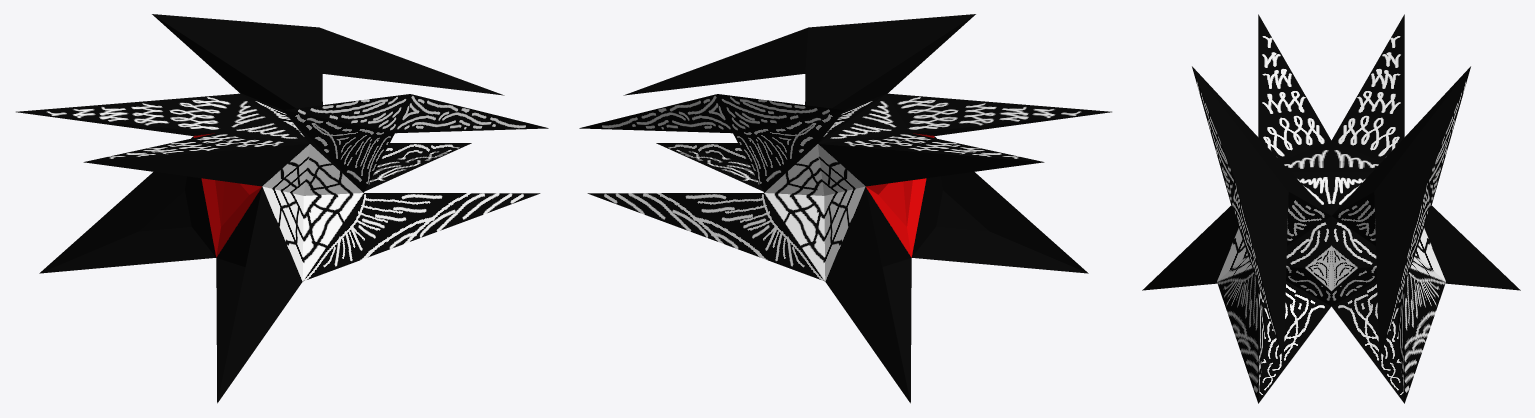
The model's file is ShapeAttacker.obj.
3 views of the same model, side by side, from view 1: azimuth 30°, elevation 25°; view 2: azimuth 150°, elevation 25°; view 3: azimuth 270°, elevation 25° (orthographic). The views are drawn at different scales.
Visible parts, largest first — view 1: ShapeAttacker; view 2: ShapeAttacker; view 3: ShapeAttacker.
Part boxes in pixels (<box>): ShapeAttacker: <box>16,14,548,403</box>; ShapeAttacker: <box>579,14,1111,403</box>; ShapeAttacker: <box>1142,14,1520,403</box>.
Size of the model in its own units: 8.05 by 4.09 by 5.18.
1 material, 1 textured.
